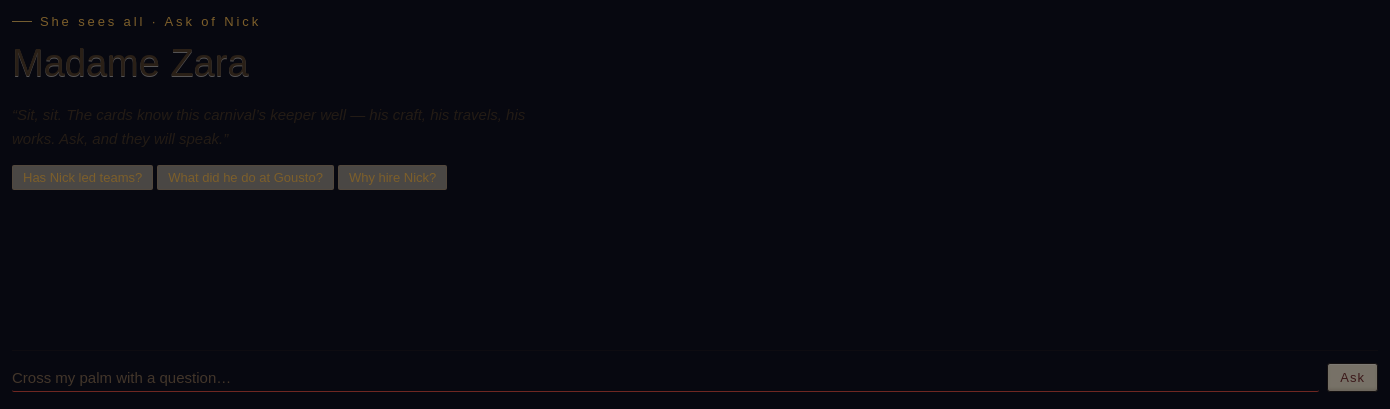
Scenario: FortunePanel › answers a failed request with the in-character mist reply
The image size is (1390, 409).
In the field: x=666, y=379 12,366 -> 1319,392, type "Anything there?"
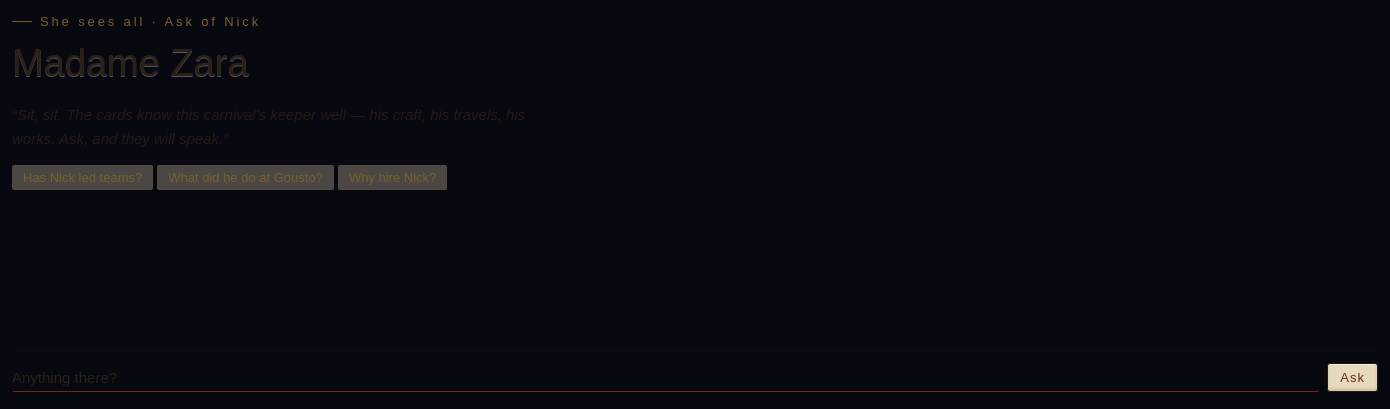
Click the button "Ask": x=1353, y=377 1327,362 -> 1378,392
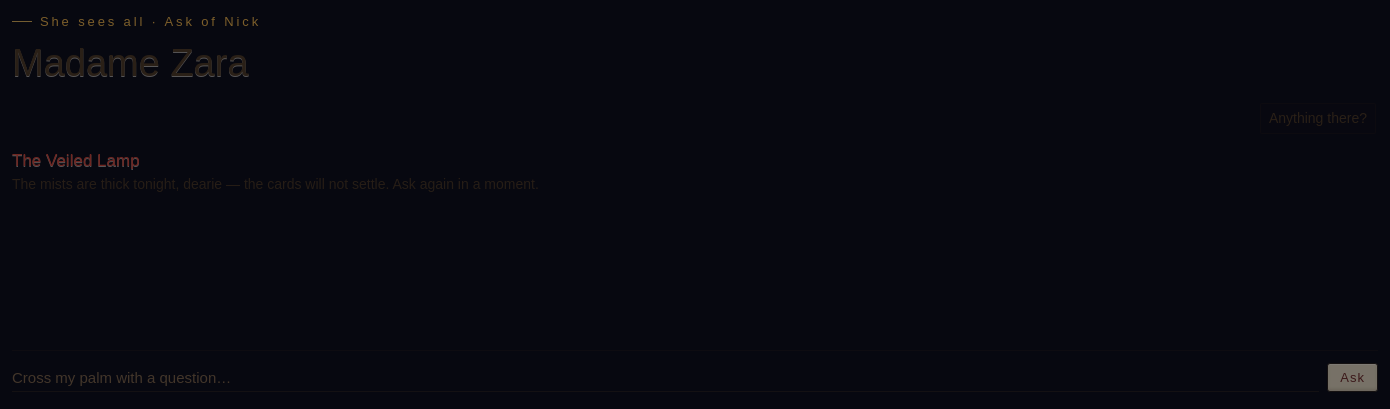
Expected: the text "The mists are thick tonight" is shown, 12,176 -> 539,192
Expected: the text "The Veiled Lamp" is shown, 12,151 -> 140,170
